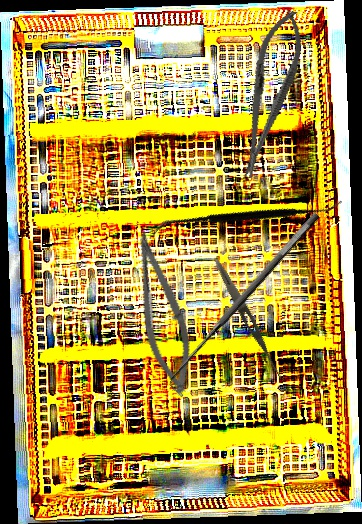Dressing Forceps: (211, 257, 287, 382)
Hook Surgical: (159, 209, 334, 399)
Micro Scissor: (117, 227, 205, 398)
Needle Holder: (226, 5, 312, 183)
Spatula Surgical: (150, 127, 345, 309)
